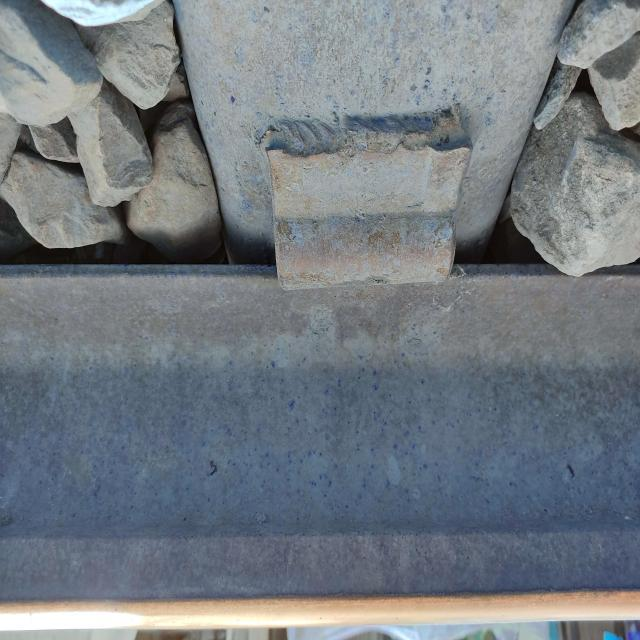Missing Fastener: (262, 104, 472, 289)
